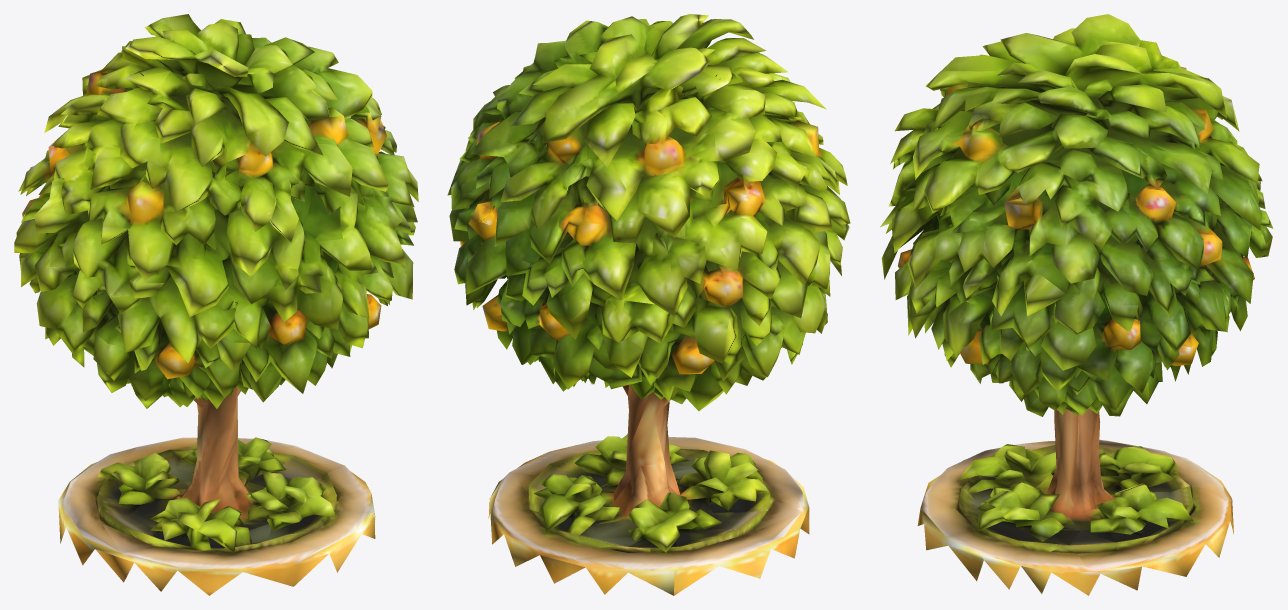
The model's file is HaloVar3_RoundTree_E_keep.glb.
The picture shows the model from 3 angles, left to right: view 1: azimuth 30°, elevation 25°; view 2: azimuth 150°, elevation 25°; view 3: azimuth 270°, elevation 25°; orthographic projection. The views are drawn at different scales.
Visible parts, largest first — view 1: HaloVar3_RoundTree_E_Tree_t00; view 2: HaloVar3_RoundTree_E_Tree_t00; view 3: HaloVar3_RoundTree_E_Tree_t00.
Boxes of the visible parts, box(x1,y1,x2,y2) form: HaloVar3_RoundTree_E_Tree_t00: box(14, 14, 418, 595); HaloVar3_RoundTree_E_Tree_t00: box(447, 14, 850, 595); HaloVar3_RoundTree_E_Tree_t00: box(880, 14, 1273, 595).
Size of the model in its own units: 6.32 by 8.3 by 6.06.
1 material, 1 textured.
